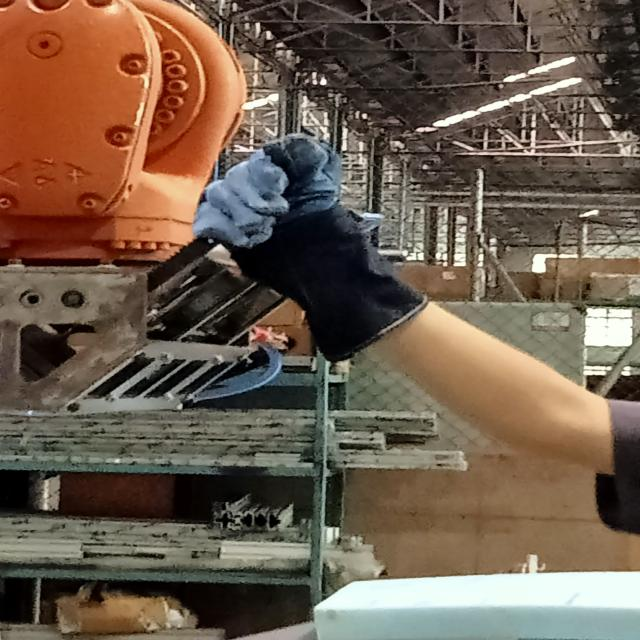Gloves-Detection: (214, 138, 390, 352)
